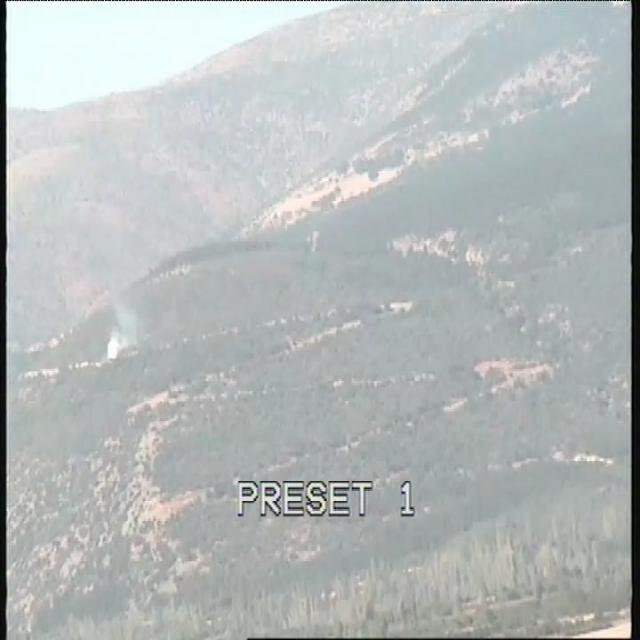smoke: (104, 305, 136, 364)
